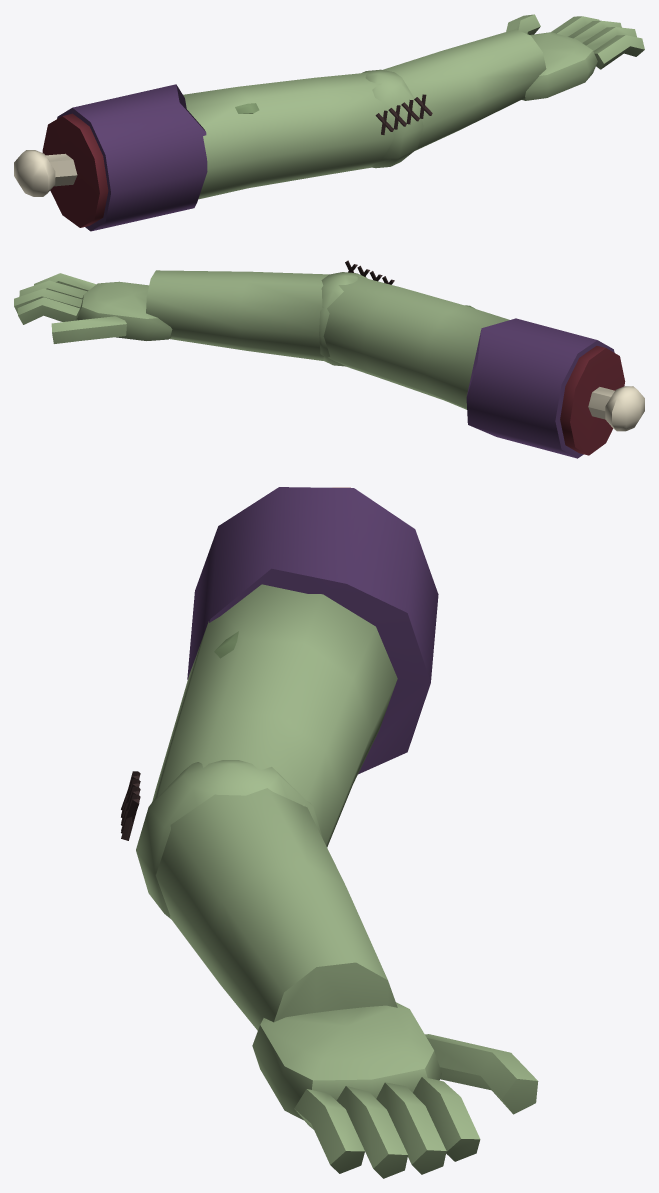
File: item_limb_arm.glb
3 renders of one model, top to bottom at view 1: azimuth 30°, elevation 25°; view 2: azimuth 150°, elevation 25°; view 3: azimuth 270°, elevation 25°, orthographic. The views are drawn at different scales.
Visible parts, largest first — view 1: item_limb_arm; view 2: item_limb_arm; view 3: item_limb_arm.
Part boxes in pixels (x1,y1,x2,y2): item_limb_arm: [14, 14, 644, 231]; item_limb_arm: [14, 260, 644, 458]; item_limb_arm: [121, 487, 538, 1178].
Size of the model in its own units: 0.7355 by 0.1217 by 0.2193.
